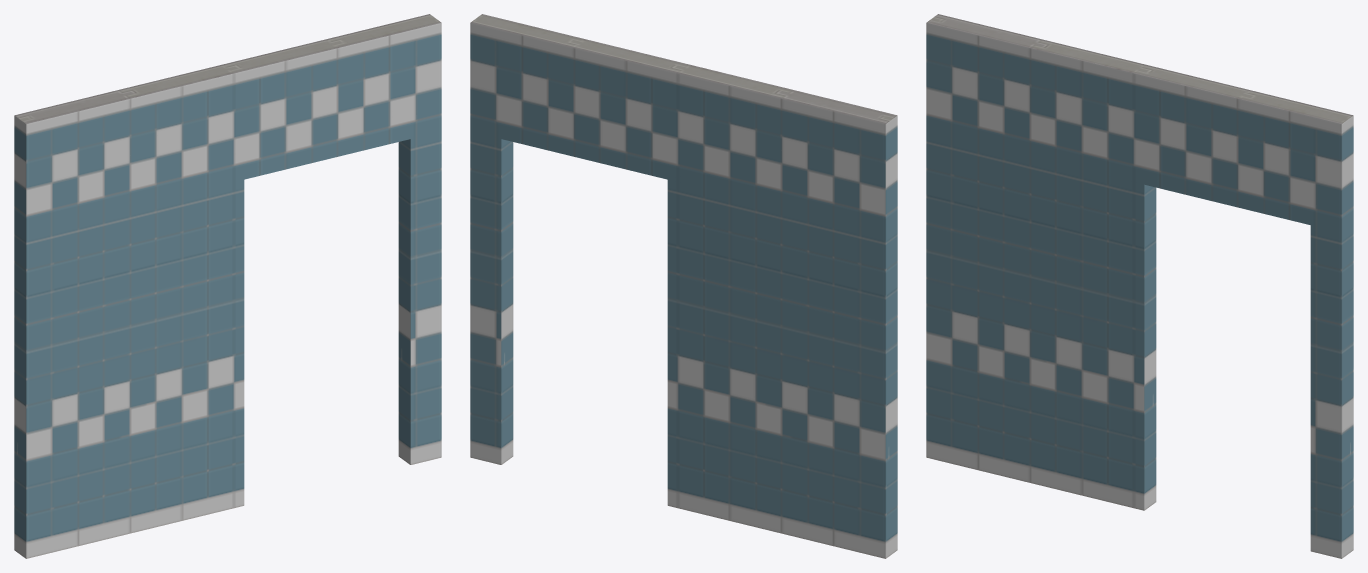
Rendered from wall8_3.fbx.
The picture shows the model from 3 angles, left to right: view 1: azimuth 30°, elevation 25°; view 2: azimuth 150°, elevation 25°; view 3: azimuth 330°, elevation 25°; orthographic projection.
Parts seen in each view (by area): view 1: wall8_bathroom_c; view 2: wall8_bathroom_c; view 3: wall8_bathroom_c.
Boxes of the visible parts, x1,y1,x2,y2 form: wall8_bathroom_c: (14, 14, 441, 558); wall8_bathroom_c: (470, 14, 897, 558); wall8_bathroom_c: (926, 14, 1353, 558).
Size of the model in its own units: 400 by 400 by 20.
